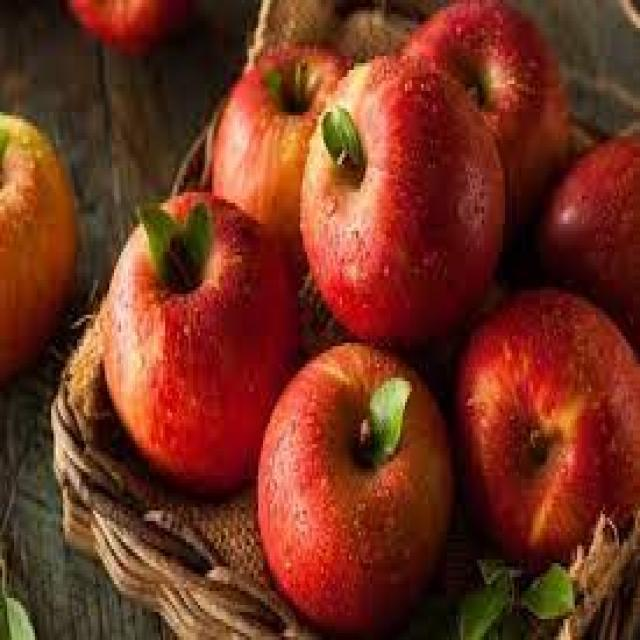Apple: (298, 48, 505, 346), (98, 188, 298, 494), (256, 339, 454, 633), (453, 283, 638, 570), (400, 0, 570, 227), (207, 38, 352, 248), (0, 108, 77, 384), (546, 126, 640, 336), (59, 0, 202, 62)
